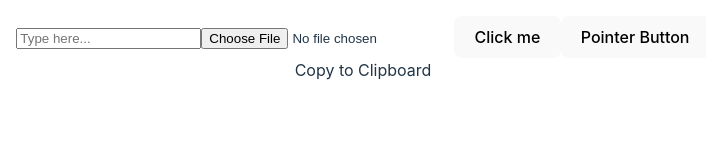
OptionsComponent › sets input value on button click
Note: finds and clicks the button
Click the button with test id "click-button".
click(507, 37)  # box x1=454 y1=16 x2=560 y2=58
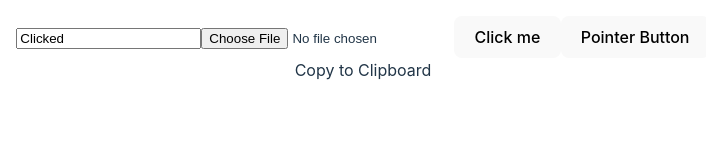
Check: the field with test id "text-input" holds "Clicked", box x1=16 y1=28 x2=201 y2=49
